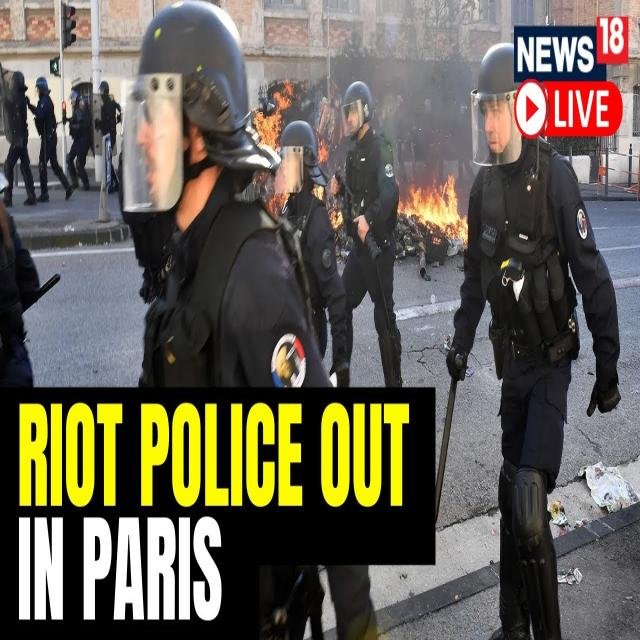police: (416, 36, 634, 640), (116, 21, 310, 440), (324, 66, 413, 410), (266, 111, 350, 379), (0, 51, 94, 242)
